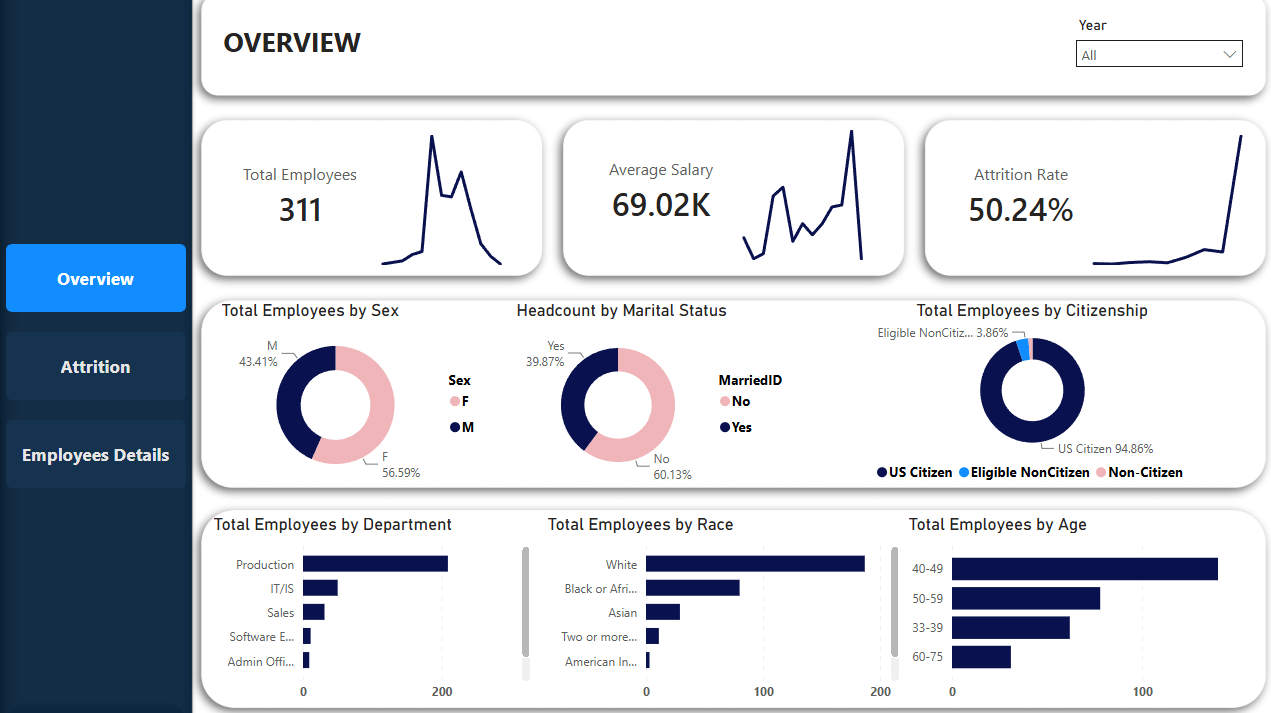

This screenshot's page, from the dashboard's own definition file:
{"tool":"powerbi","page":{"name":"Overview","canvas":[1280,720],"ordinal":0},"visuals":[{"type":"group","id":"g1","title":"Group 1","box":[224,126,317,148],"z":0},{"type":"cardVisual","fields":{"Data":["_measures.Average Salary"]},"box":[585,135,165,119],"z":0,"group":"g2"},{"type":"cardVisual","fields":{"Data":["_measures.Total Employees"]},"box":[224,140,165,119],"z":0,"group":"g1"},{"type":"cardVisual","fields":{"Data":["_measures.Attrition Rate"]},"box":[945,140,165,119],"z":0,"group":"g3"},{"type":"group","id":"g2","title":"Group 1","box":[585,121,317,148],"z":1000},{"type":"lineChart","fields":{"Y":["_measures.Average Salary"],"Category":["Calendar.Year"]},"box":[725,121,177,148],"z":1000,"group":"g2"},{"type":"lineChart","fields":{"Y":["_measures.Total Employees"],"Category":["Calendar.Year"]},"box":[364,126,177,148],"z":1000,"group":"g1"},{"type":"lineChart","fields":{"Y":["_measures.Attrition Rate"],"Category":["Calendar.Year"]},"box":[1085,126,177,148],"z":1000,"group":"g3"},{"type":"group","id":"g3","title":"Group 1","box":[945,126,317,148],"z":2000},{"type":"donutChart","fields":{"Y":["_measures.Total Employees"],"Category":["HRDataset.Sex"]},"box":[223.4,304.5,281.2,190.6],"z":3000},{"type":"donutChart","title":"Headcount by Marital Status","fields":{"Y":["_measures.Total Employees"],"Category":["HRDataset.MarriedID"]},"box":[518.4,304.5,298.4,190.6],"z":4000},{"type":"donutChart","title":"Total Employees by Citizenship","fields":{"Y":["_measures.Total Employees"],"Category":["HRDataset.CitizenDesc"]},"box":[814.2,304.5,448.5,190.6],"z":5000},{"type":"barChart","fields":{"Y":["_measures.Total Employees"],"Category":["HRDataset.Department"]},"box":[214.8,517.5,326,196.7],"z":6000},{"type":"barChart","title":"Total Employees by Race","fields":{"Y":["_measures.Total Employees"],"Category":["HRDataset.RaceDesc"]},"box":[549.4,517.5,360.5,196.7],"z":7000},{"type":"barChart","title":"Total Employees by Age","fields":{"Y":["_measures.Total Employees"],"Category":["HRDataset.Emplyee Age Band"]},"box":[910,517.5,349.3,196.7],"z":8000},{"type":"slicer","fields":{"Values":["Calendar.Year"]},"box":[1072.1,15.5,187.2,64.7],"z":9000},{"type":"textbox","box":[201.8,22.4,193.2,47.4],"z":10000},{"type":"pageNavigator","box":[12.2,247.8,180,246.7],"z":10001}]}

Visuals, with their boxes on the page's 1280x720 design canvas (x1, y1, x2, y2). These are canvas units, not pixel positions in the 1271x713 screenshot, which may show the page scaled, cropped or inside an application window:
"Group 1" group: l=224, t=126, r=541, b=274
cardVisual - _measures.Average Salary: l=585, t=135, r=750, b=254
cardVisual - _measures.Total Employees: l=224, t=140, r=389, b=259
cardVisual - _measures.Attrition Rate: l=945, t=140, r=1110, b=259
"Group 1" group: l=585, t=121, r=902, b=269
lineChart - _measures.Average Salary x Calendar.Year: l=725, t=121, r=902, b=269
lineChart - _measures.Total Employees x Calendar.Year: l=364, t=126, r=541, b=274
lineChart - _measures.Attrition Rate x Calendar.Year: l=1085, t=126, r=1262, b=274
"Group 1" group: l=945, t=126, r=1262, b=274
donutChart - _measures.Total Employees x HRDataset.Sex: l=223, t=304, r=505, b=495
"Headcount by Marital Status" donutChart: l=518, t=304, r=817, b=495
"Total Employees by Citizenship" donutChart: l=814, t=304, r=1263, b=495
barChart - _measures.Total Employees x HRDataset.Department: l=215, t=518, r=541, b=714
"Total Employees by Race" barChart: l=549, t=518, r=910, b=714
"Total Employees by Age" barChart: l=910, t=518, r=1259, b=714
slicer - Calendar.Year: l=1072, t=16, r=1259, b=80
textbox: l=202, t=22, r=395, b=70
pageNavigator: l=12, t=248, r=192, b=494
